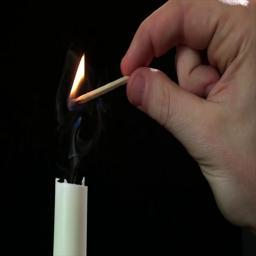fire: (69, 56, 85, 99)
